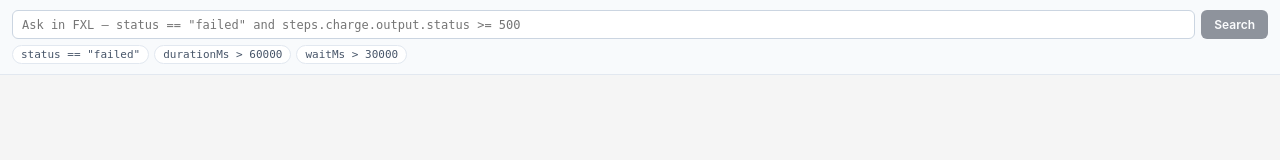
Test: RunQueryBar › shows a parse error in place rather than as a toast that scrolls away
Replace the text in the field named "Filter runs with an FXL predicate" with "status ==" at (604, 24), box [12,10,1195,39]
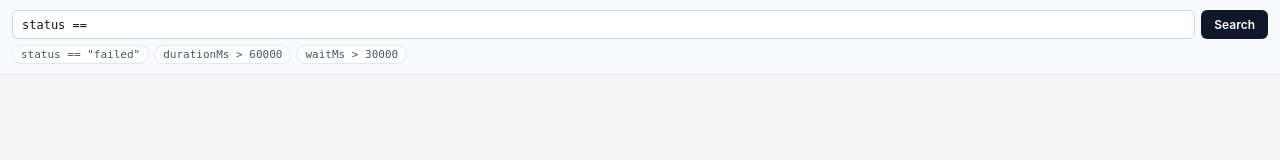
Click the button "Search".
click(1235, 24)  # box [1201,10,1268,39]
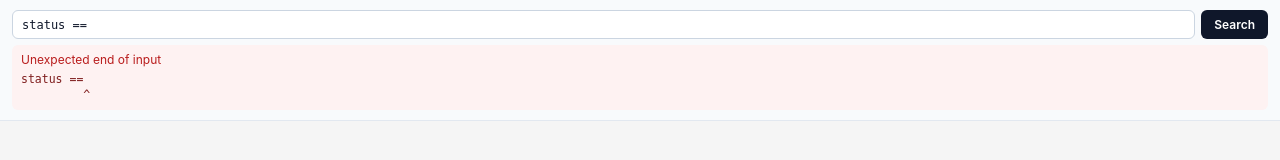
Now the message shows "Unexpected end of input", box [21,52,161,67]
